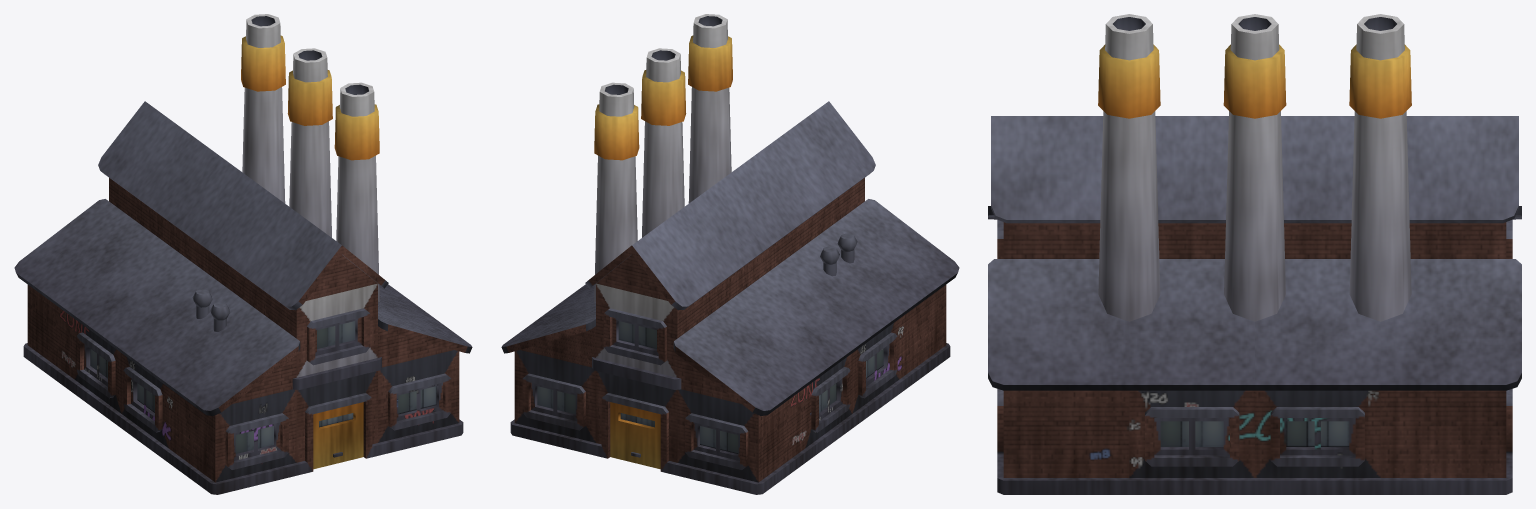
The model's file is building-m-brown-scuffed.glb.
3 renders of one model, left to right at view 1: azimuth 30°, elevation 25°; view 2: azimuth 150°, elevation 25°; view 3: azimuth 270°, elevation 25°, orthographic. The views are drawn at different scales.
Parts seen in each view (by area): view 1: building-m; view 2: building-m; view 3: building-m.
Boxes of the visible parts, box(x1,y1,x2,y2) form: building-m: box(14, 14, 472, 494); building-m: box(501, 14, 959, 494); building-m: box(988, 14, 1521, 494).
Size of the model in its own units: 1.32 by 1.52 by 1.7.
Materials: 1 (1 with a texture image).
